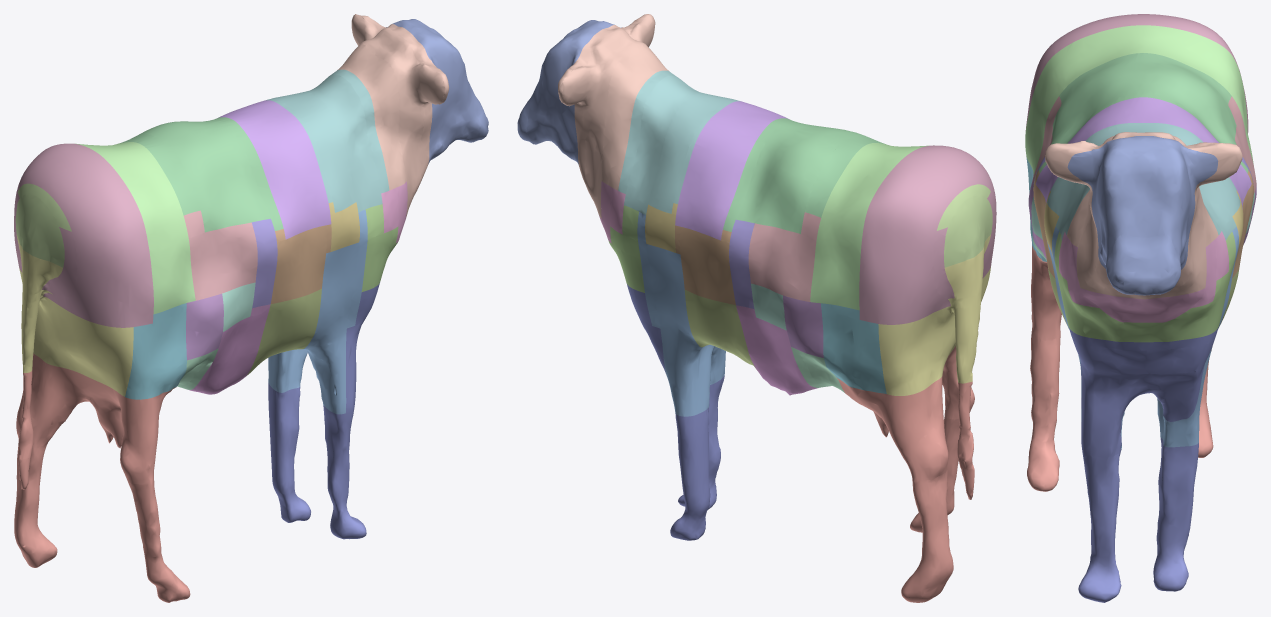
3 renders of one model, left to right at view 1: azimuth 30°, elevation 25°; view 2: azimuth 150°, elevation 25°; view 3: azimuth 270°, elevation 25°, orthographic. The views are drawn at different scales.
Visible parts, largest first — view 1: ichibo, sune, neck, sirloin, kata-rosu, sotomomo, kata, katabara, ranpu, rib-rosu, tan, hire (+12 smaller); view 2: ichibo, sune, neck, sirloin, kata-rosu, sotomomo, ranpu, katabara, rib-rosu, kata, tan, hire (+12 smaller); view 3: kata, tan, sirloin, ranpu, neck, sune, misuji, tougarashi, kata-rosu, rib-rosu, ichibo, katabara (+6 smaller).
Boxes of the visible parts, <box> form: ichibo: <box>14,143,153,327</box>; sune: <box>14,353,190,602</box>; neck: <box>338,14,449,217</box>; sirloin: <box>119,117,283,232</box>; kata-rosu: <box>266,69,389,212</box>; sotomomo: <box>16,235,133,396</box>; kata: <box>268,283,379,539</box>; katabara: <box>268,209,367,414</box>; ranpu: <box>75,142,195,314</box>; rib-rosu: <box>218,100,331,239</box>; tan: <box>386,19,488,163</box>; hire: <box>183,210,257,300</box>; ichibo: <box>859,145,996,324</box>; sune: <box>837,346,974,602</box>; neck: <box>558,14,669,218</box>; sirloin: <box>723,118,885,233</box>; kata-rosu: <box>618,70,740,214</box>; sotomomo: <box>878,234,990,395</box>; ranpu: <box>810,143,928,310</box>; katabara: <box>637,212,725,416</box>; rib-rosu: <box>675,101,789,240</box>; kata: <box>627,284,724,540</box>; tan: <box>517,20,621,165</box>; hire: <box>748,212,820,301</box>; kata: <box>1069,327,1218,602</box>; tan: <box>1067,136,1218,295</box>; sirloin: <box>1039,53,1248,173</box>; ranpu: <box>1025,25,1253,176</box>; neck: <box>1045,132,1242,299</box>; sune: <box>1027,246,1213,491</box>; misuji: <box>1054,232,1235,342</box>; tougarashi: <box>1059,231,1228,322</box>; kata-rosu: <box>1047,123,1240,240</box>; rib-rosu: <box>1035,97,1251,209</box>; ichibo: <box>1025,14,1248,133</box>; katabara: <box>1047,227,1238,449</box>.
Size of the model in its own units: 1 by 0.995 by 0.4133.
